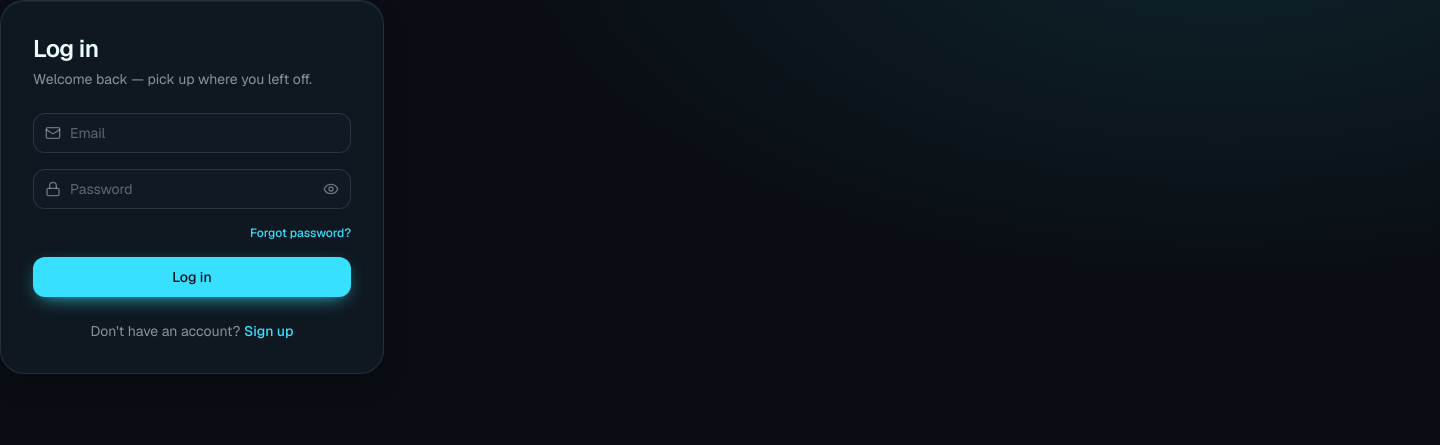
Test case: LoginPage › shows a generic error and stops loading when signIn throws
The image size is (1440, 445).
In the field with placeholder "Email": (192, 133) [33,113,351,153], type "a@example.com"
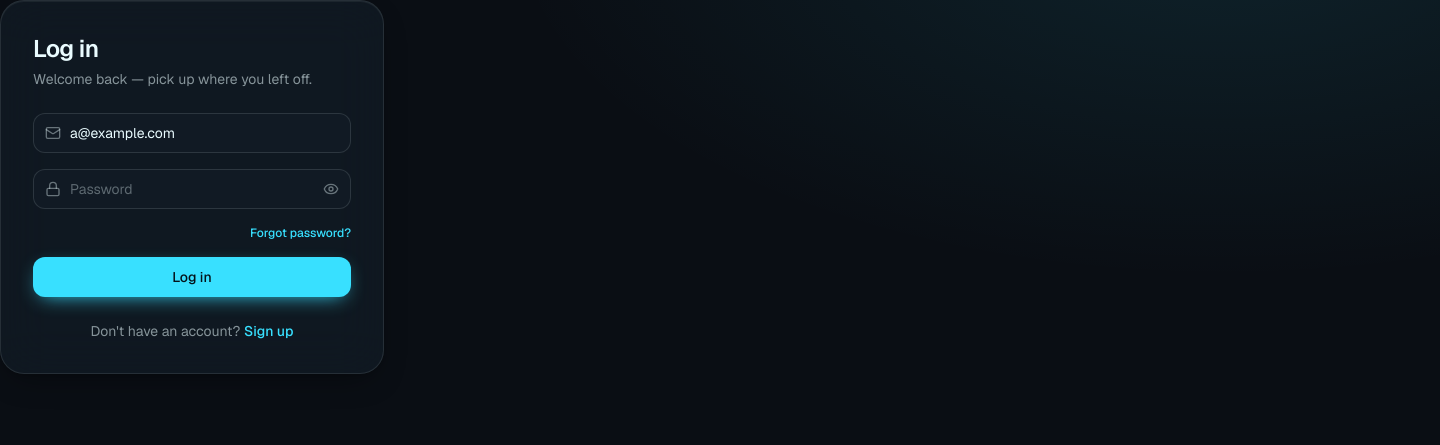
In the password field with placeholder "Password": (192, 189) [33,169,351,209], type "correcthorse123"
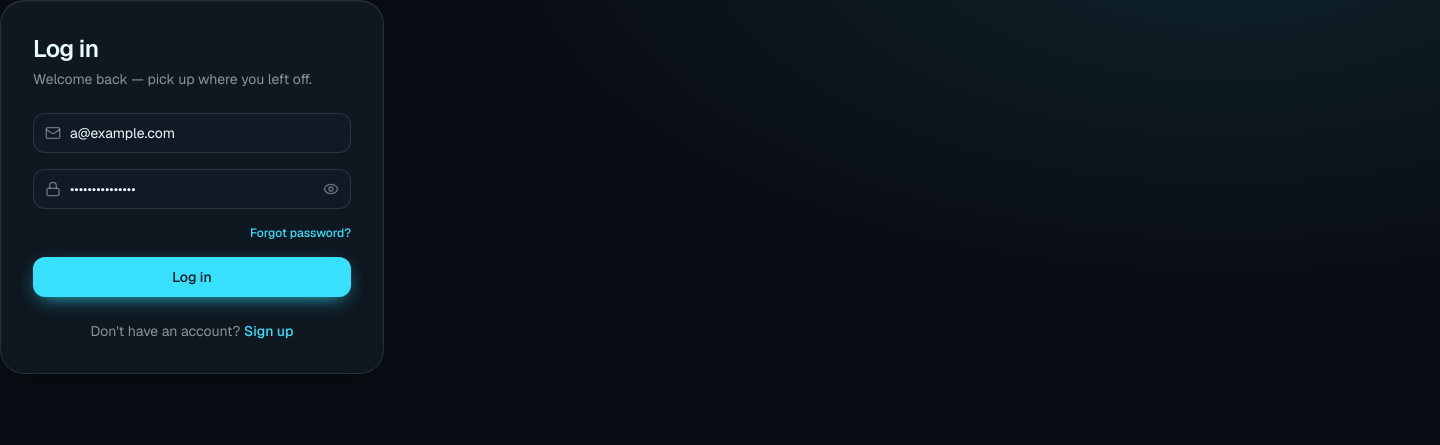
Click the button "Log in": (192, 277) [33,257,351,297]
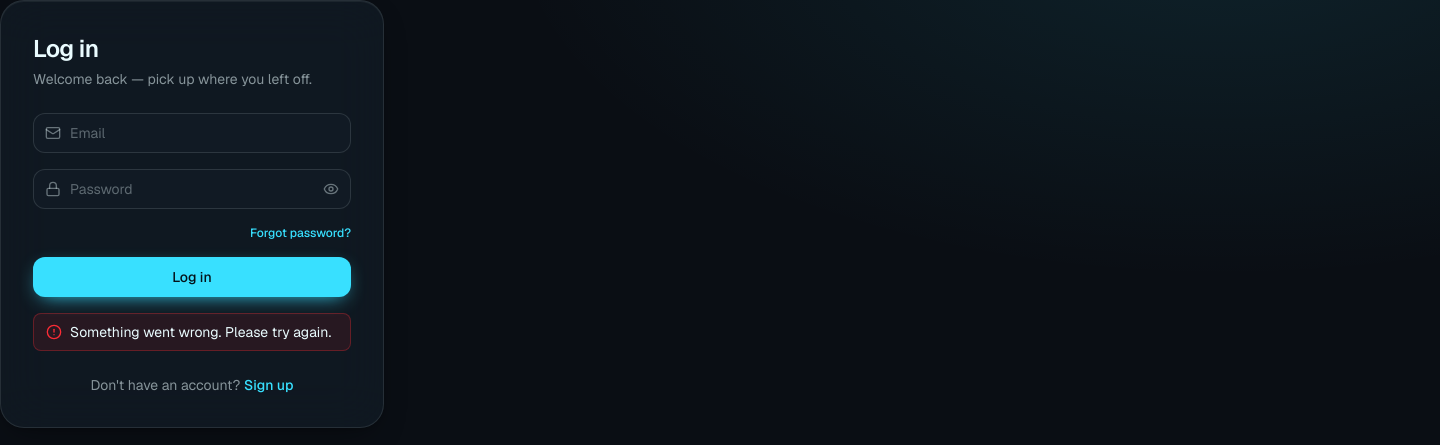
Expected: the message reads "Something went wrong. Please try again.", [70,323,331,341]
